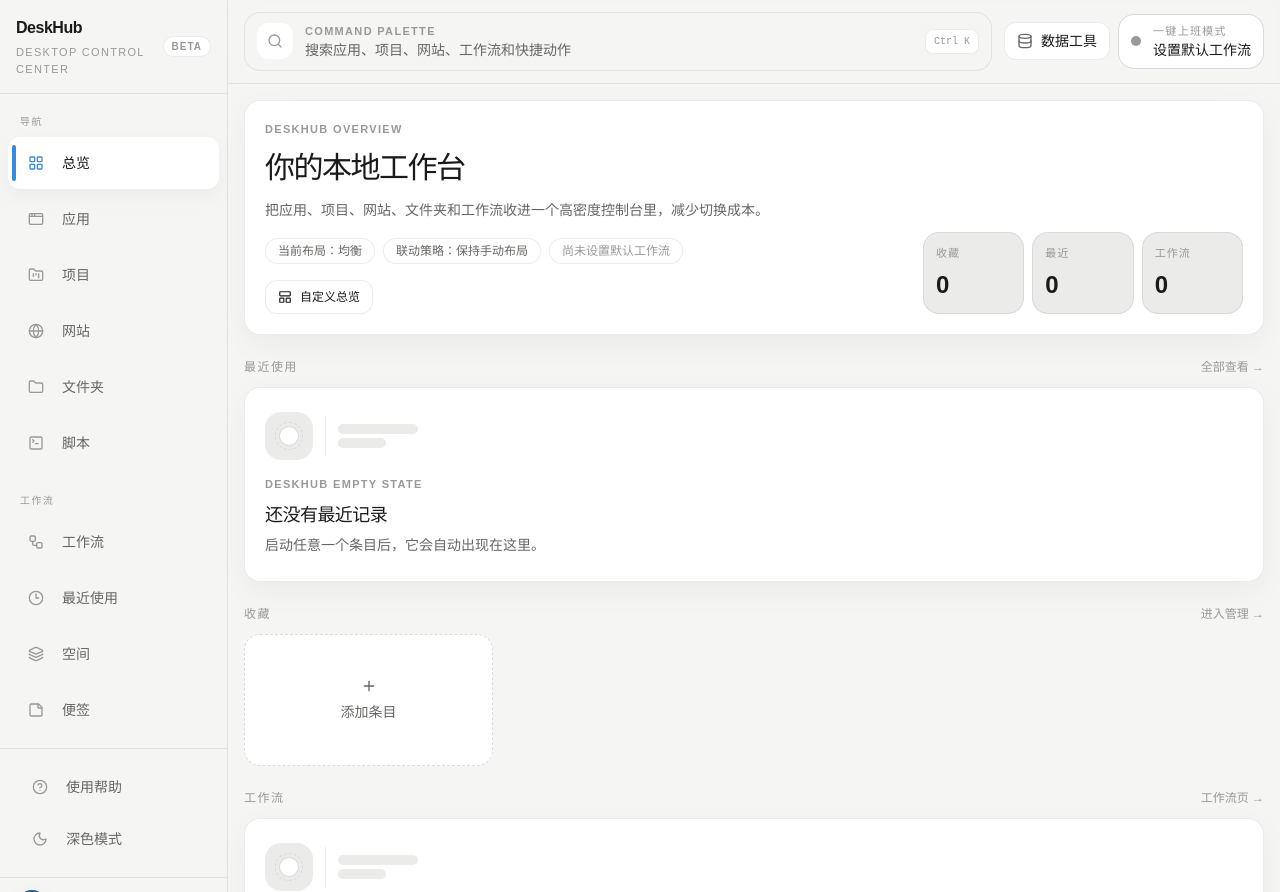
Test: AppRouter › can open a starter template from the command palette with prefilled values
Expected: the button "添加条目" is shown, 244,634 -> 493,766
Press k
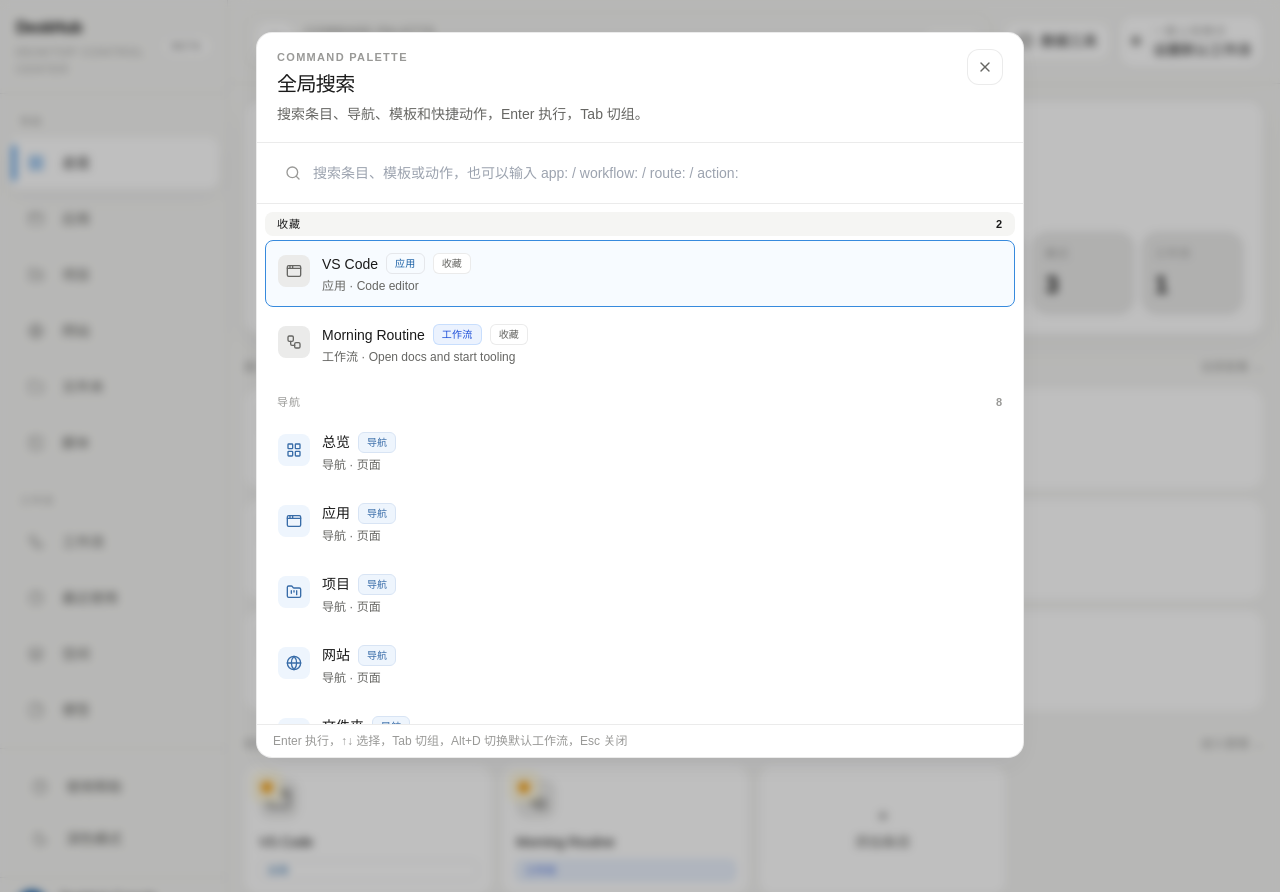
Type "action: 模板 web 项目" into the dropdown named "全局搜索" at (640,172), box 273,154 -> 1007,190
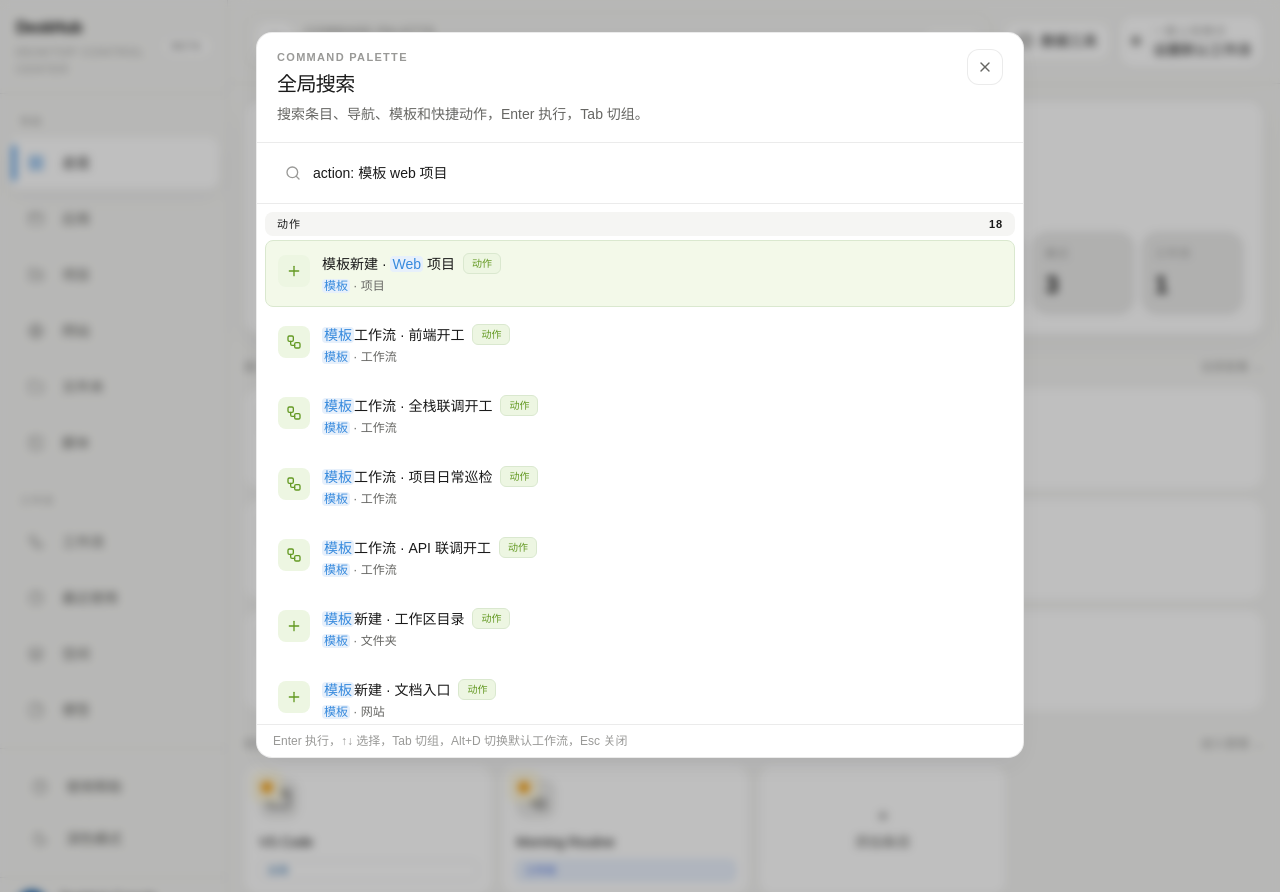
Press Enter
(page scrolled)
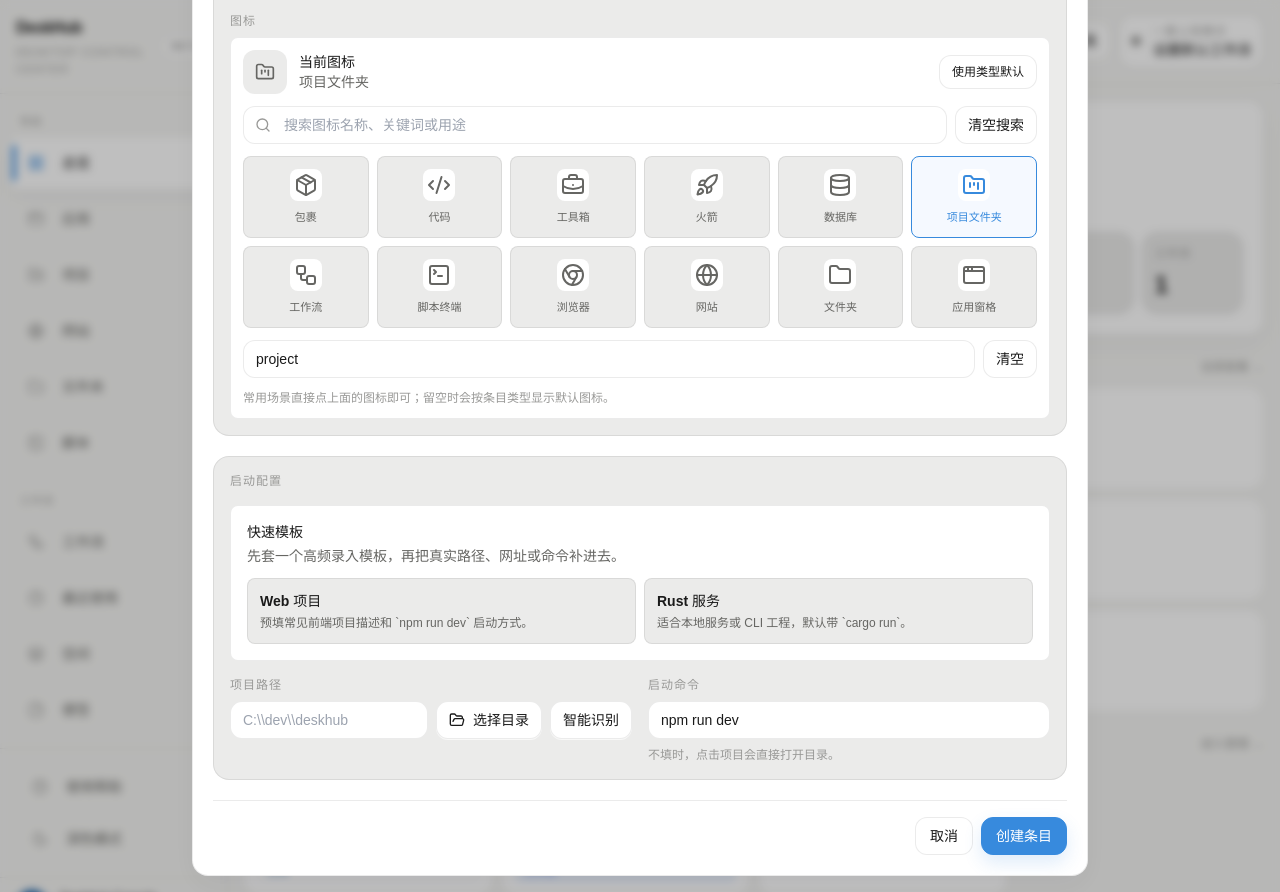
Expected: the field labelled "启动命令" holds "npm run dev", 648,700 -> 1050,738
